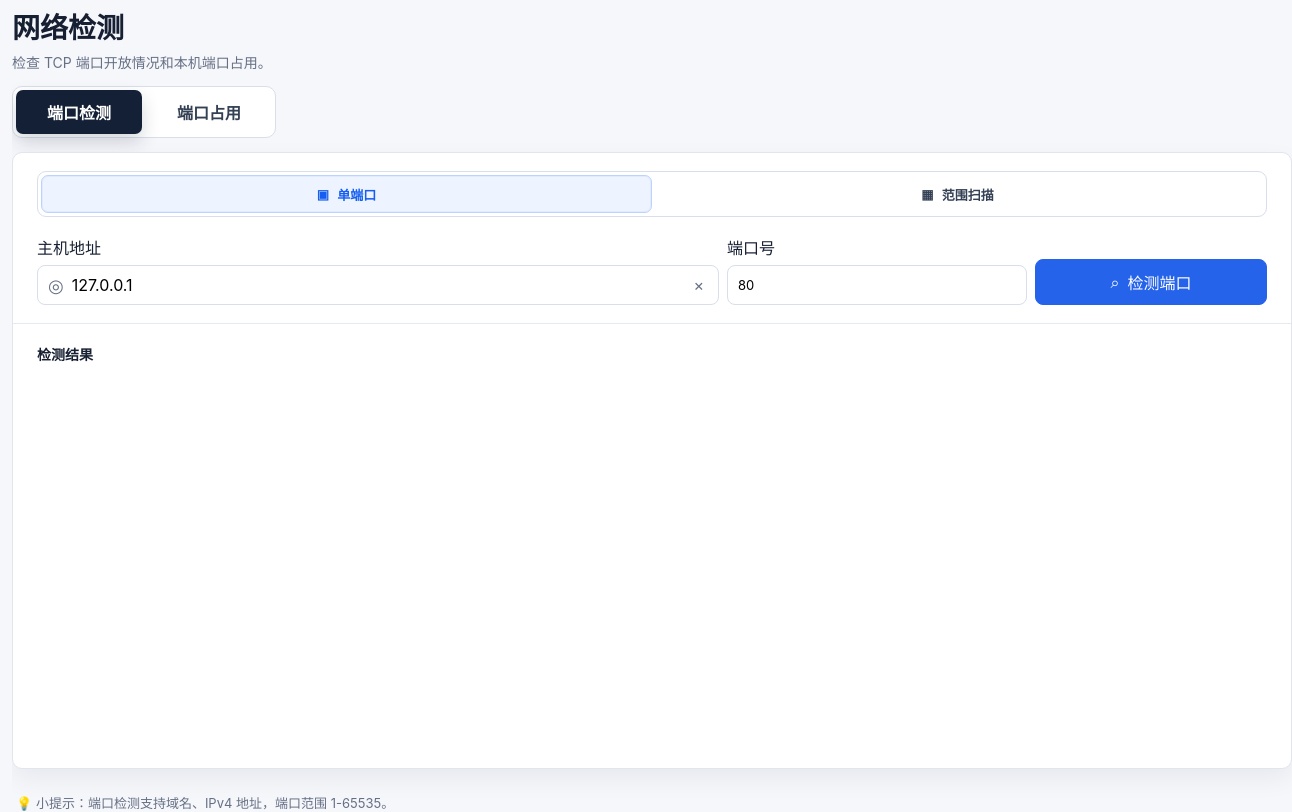
shows one network diagnostic tab at a time
Click the tab "端口占用": click(209, 112) [146,90,272,134]
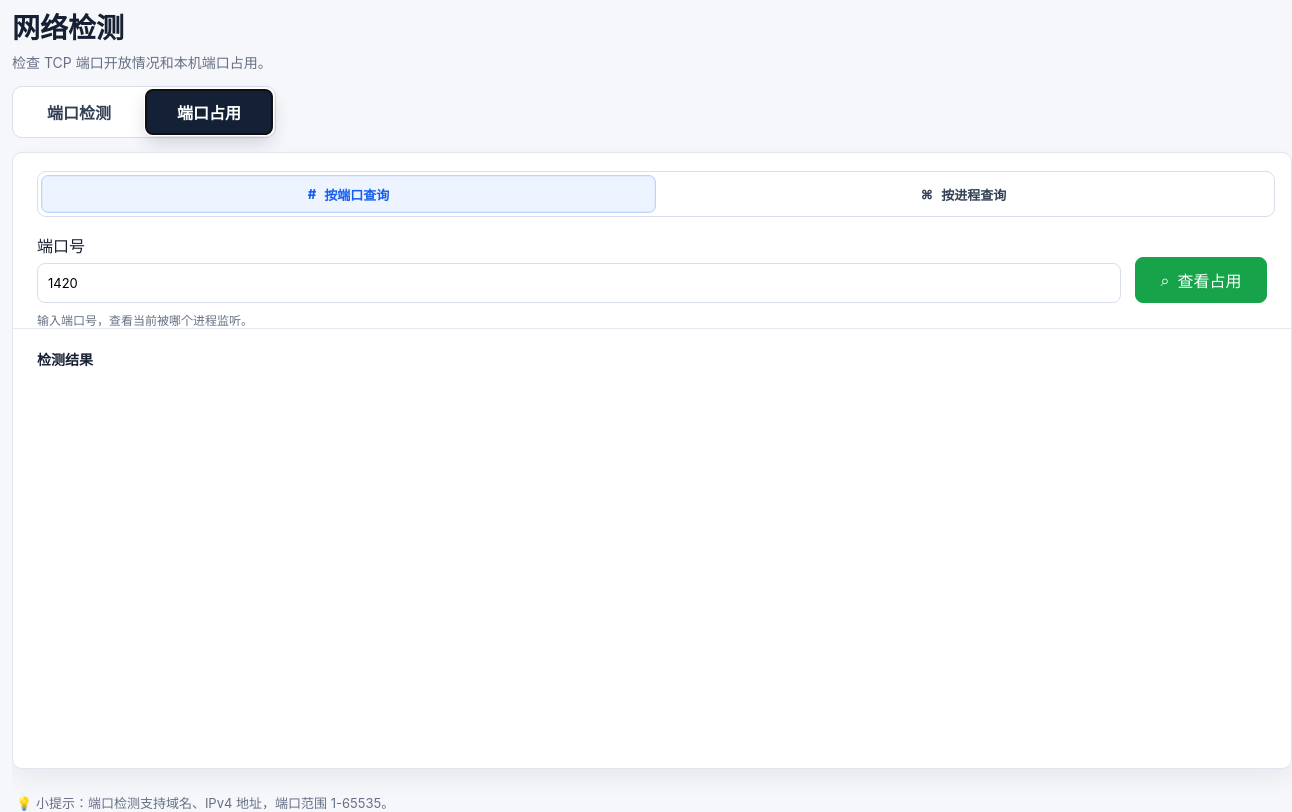
expect the number field labelled "端口号" is shown: met, box [37,263,1121,303]
expect the button "范围扫描" is gone: met
